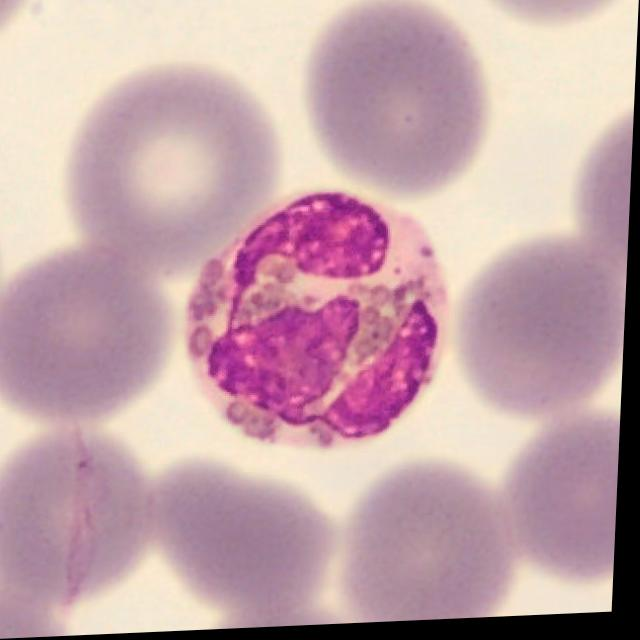Eosinofilo: (187, 192, 455, 452)
